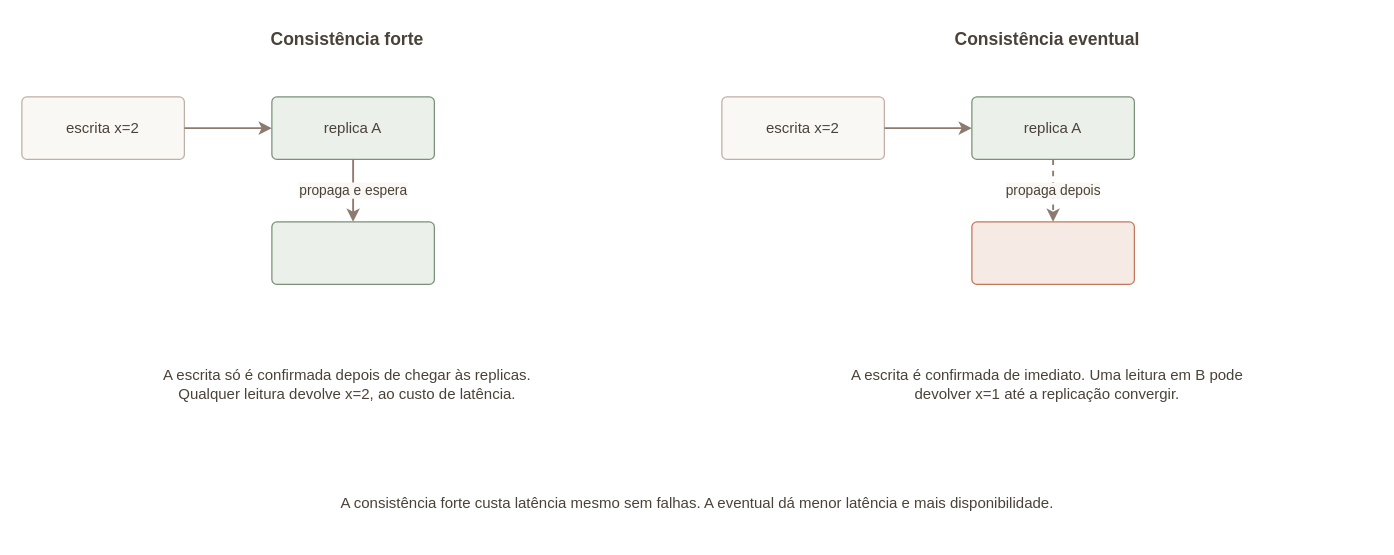
The diagram is 1394 pixels wide and 555 high, and some of its shapes have lost their labels. The centre of each missing label's shape, as x and y in pixels:
replica B: the point at 352,252
replica B x=1 por agora: the point at 1052,252
